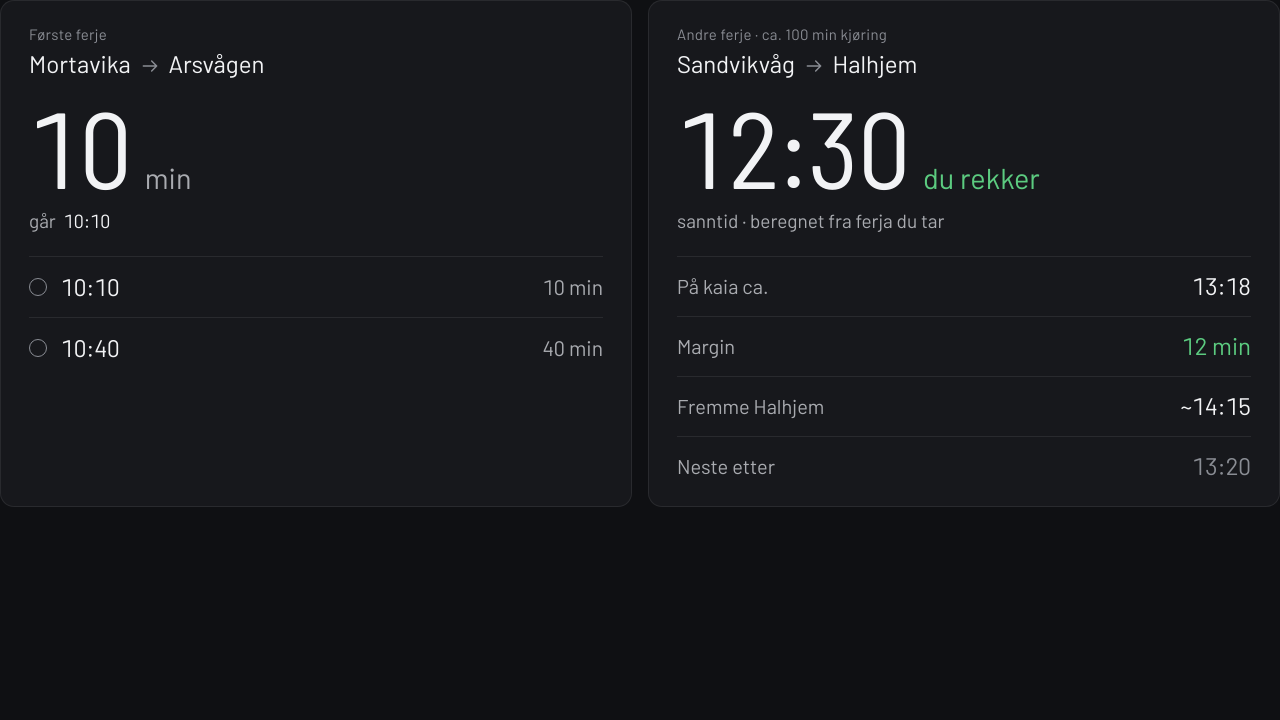
Scenario: TripView › re-plans from a tapped later ferry and can reset
Click the button "10:40 40 min" at (90, 347), box [15,318,617,378]
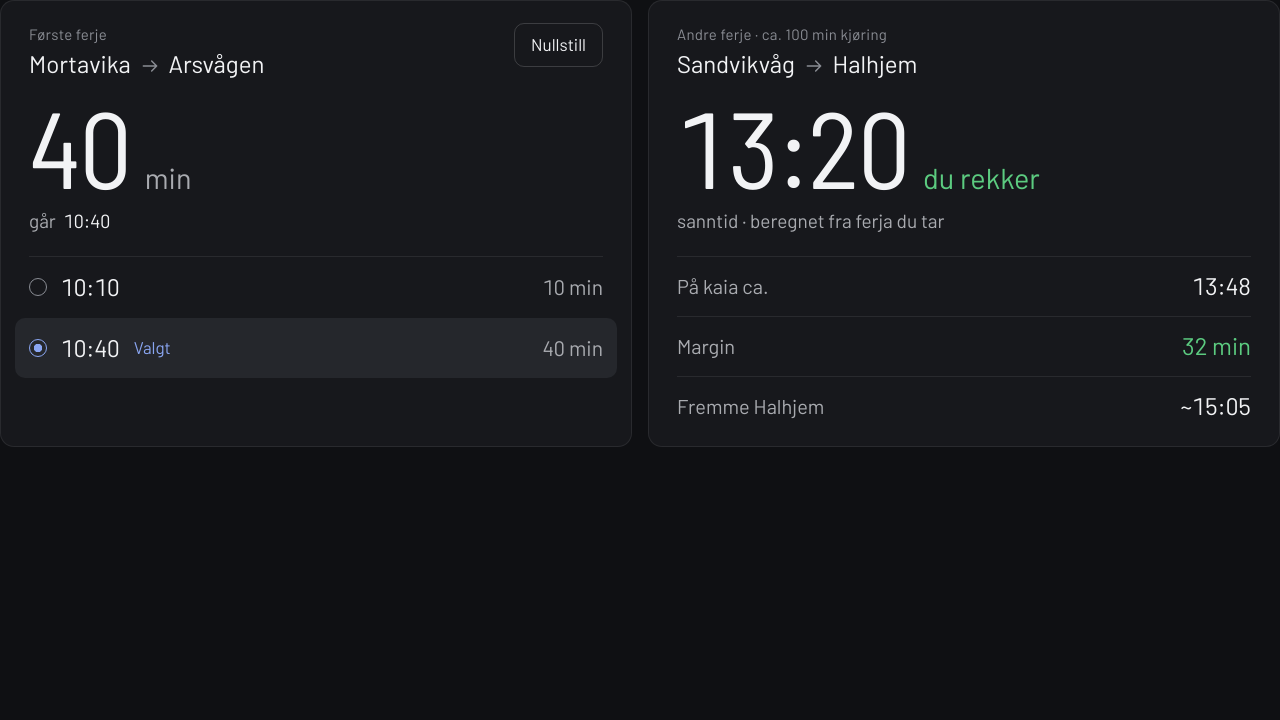
Expected: the text "13:20" is shown, [677,95,909,198]
Click the button "Nullstill" at (559, 45), box [514,23,603,67]
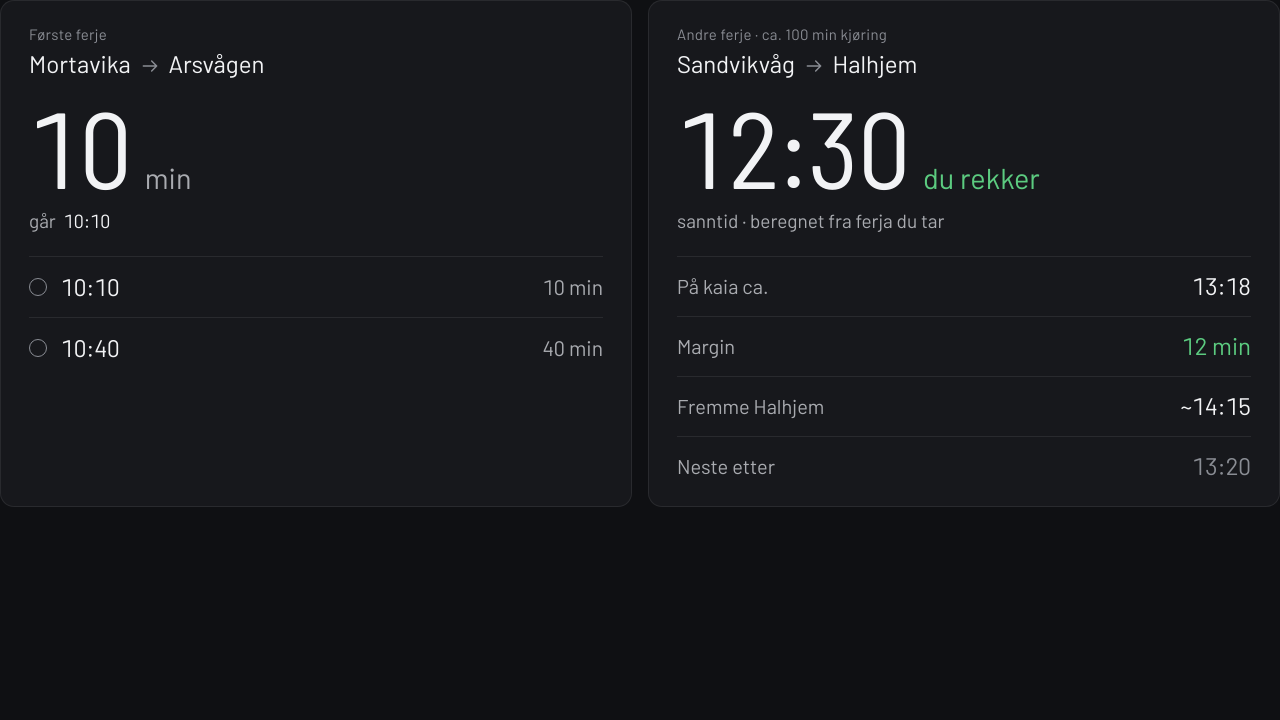
Expected: the text "12:30" is shown, [677,95,909,198]
